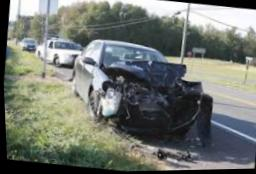Bonnet: (98, 60, 190, 91)
Bumper: (105, 99, 210, 139)
Light: (99, 81, 122, 100), (187, 87, 206, 104)
